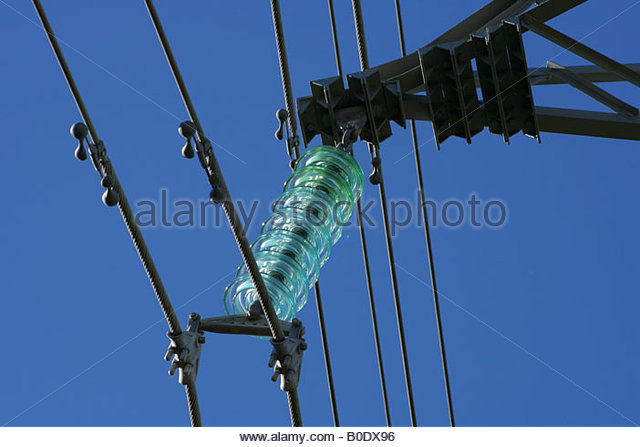isolator: (221, 145, 366, 339)
